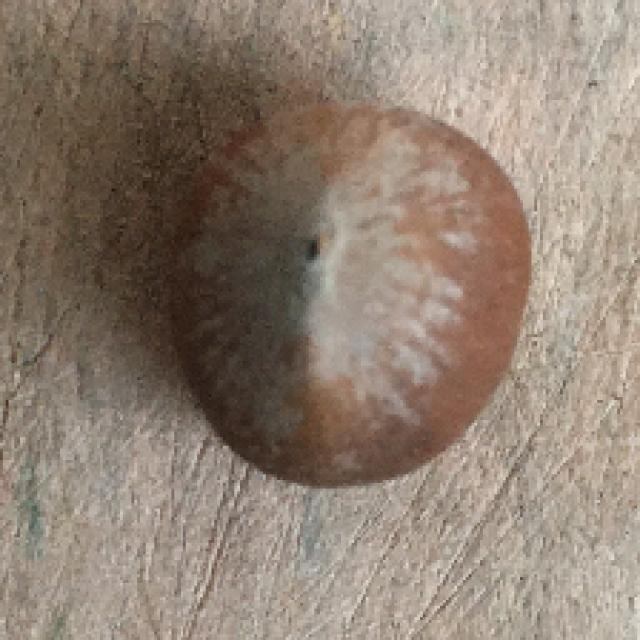qualityHazelnut: (161, 91, 538, 494)
